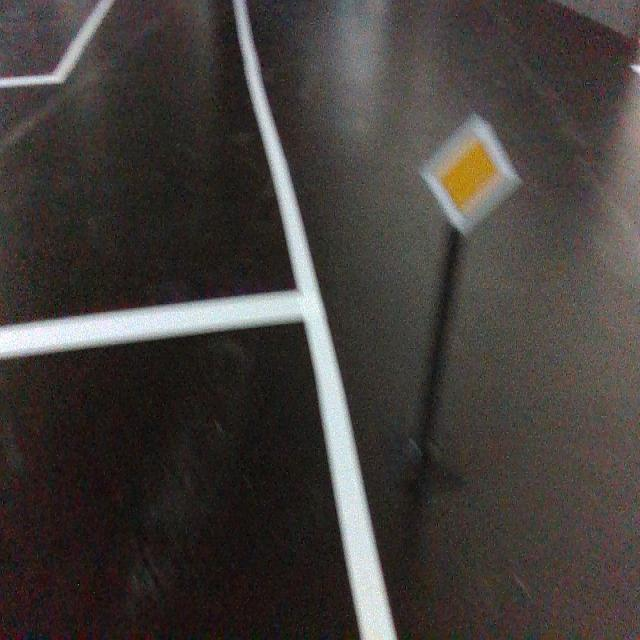priority-sign: (416, 111, 494, 242)
